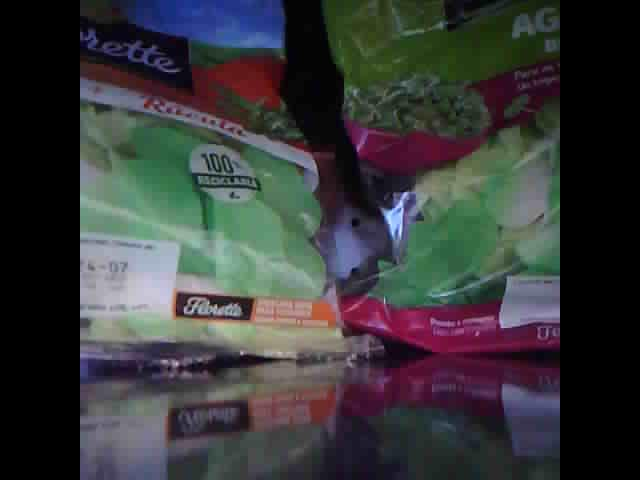florette: (80, 3, 359, 371), (325, 1, 558, 360)
